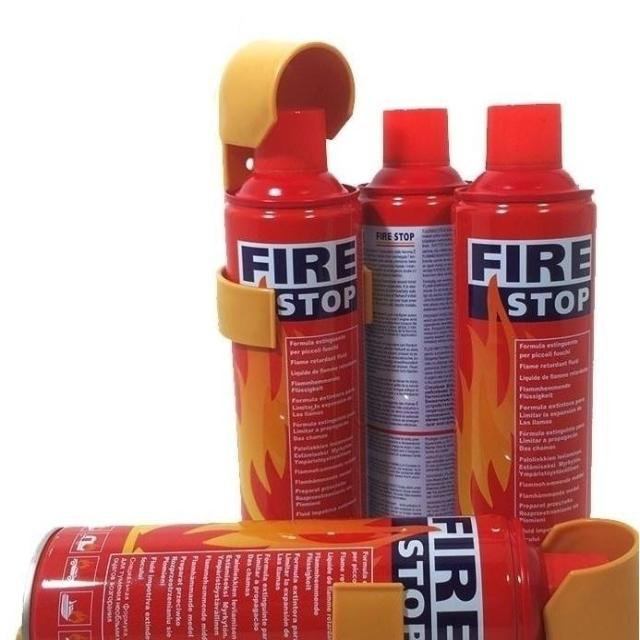fire_extinguisher: (215, 103, 384, 630), (448, 98, 602, 632), (12, 519, 639, 639), (341, 104, 486, 614)
